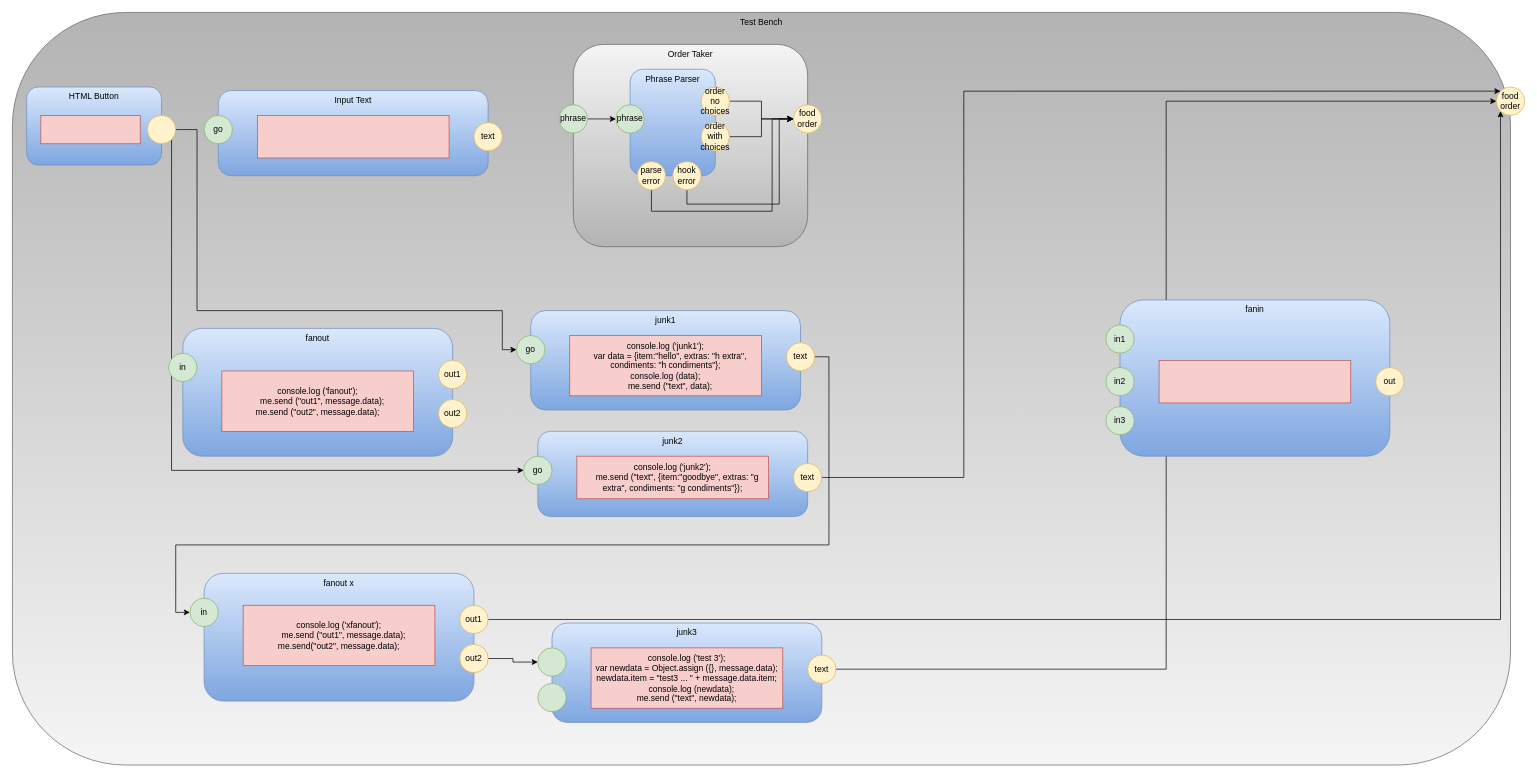
This 1537x777 diagram has some shape labels left out. Here are the shapes that lost their labels. From the top down, the centre of each, then its label:
pixel 90 129: me.send ("click", true);
pixel 161 129: click
pixel 353 136: console.log ('input 1'); me.send ("text", getText ('src'));
pixel 1254 381: console.log ('fan in'); me.send ("out", message.data);
pixel 551 661: text1
pixel 551 697: text2
